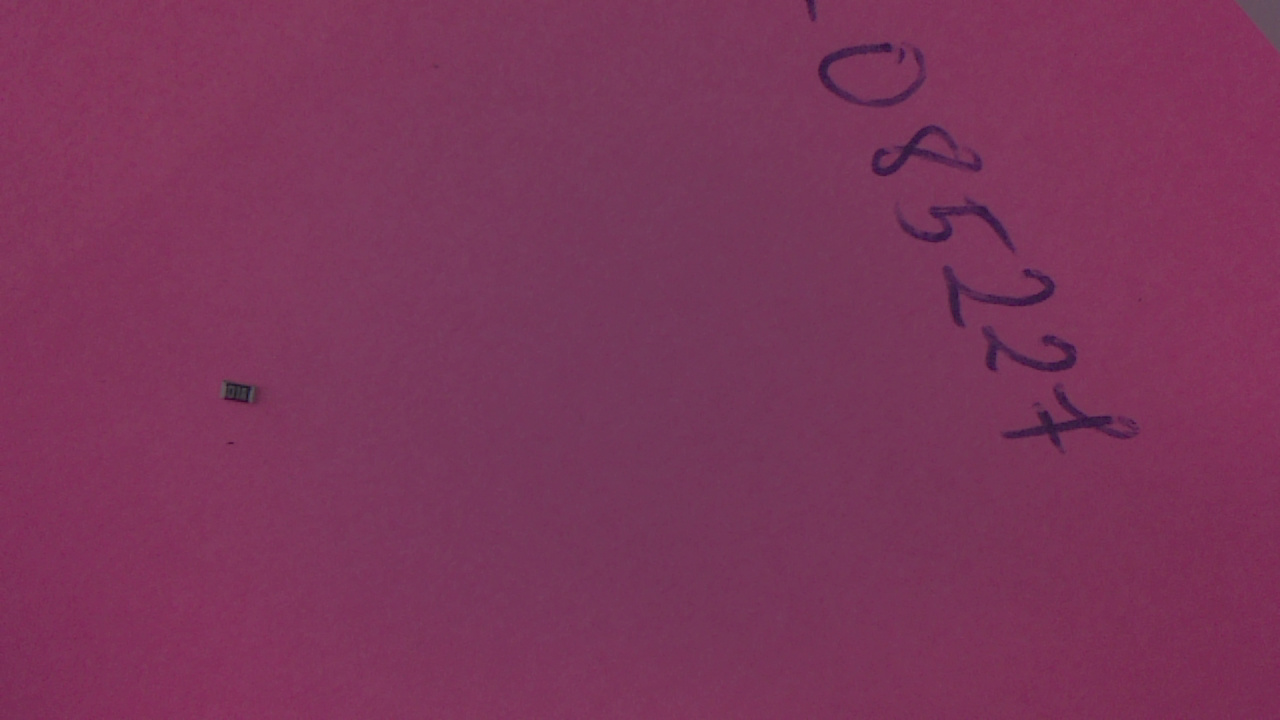Resistor: (222, 382, 264, 410)
